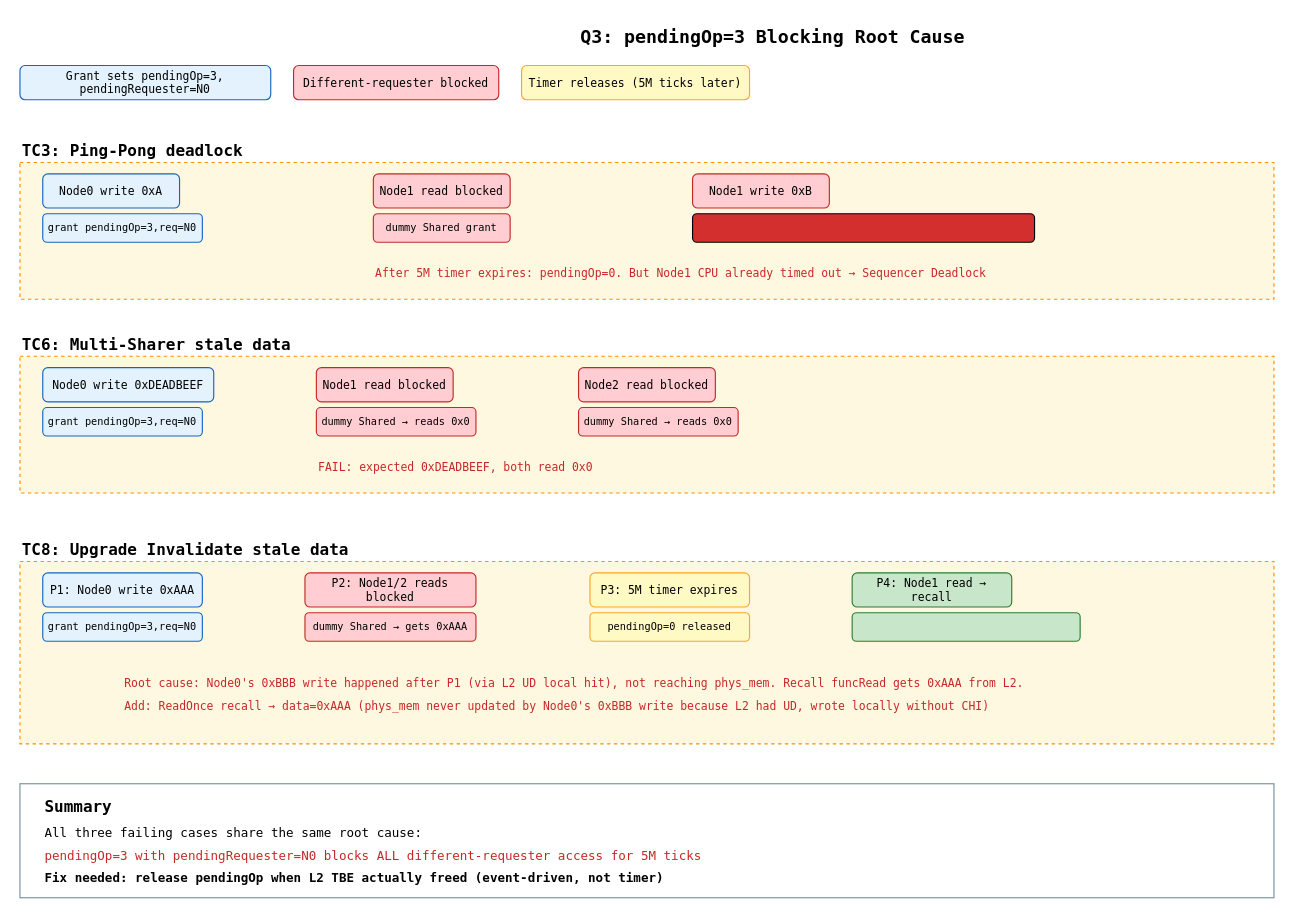
The diagram is 1294 pixels wide and 918 high, and some of its shapes have lost their labels. The shapes that lost their labels are listed below. From the top down, each one's centre as x and y in pixels, then its label:
At (863,227): "DEADLOCK: CPU write's Modified grant never returns".
At (965,626): "recall captures Node0 L2=0xAAA (old!)".
